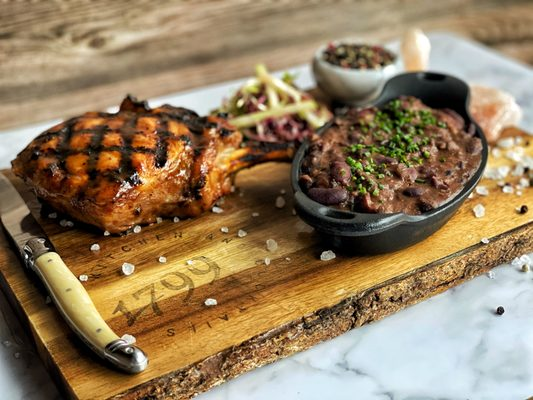sandwich: (0, 168, 149, 376)
sushi: (290, 87, 489, 253)
